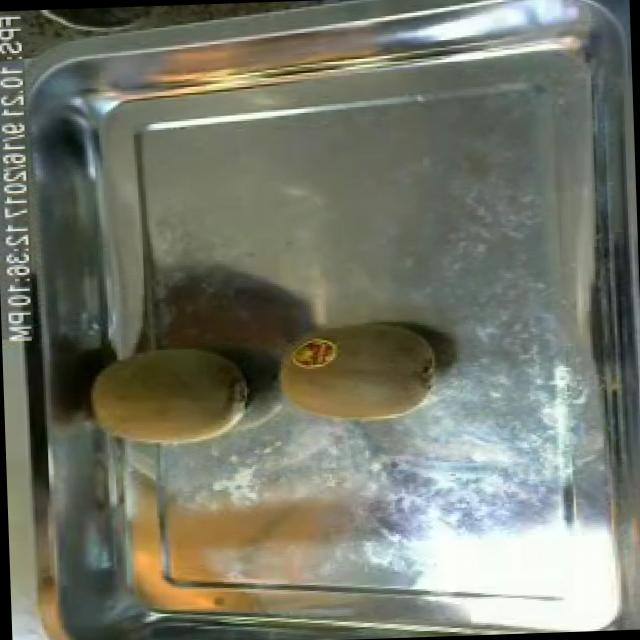Fruit: (78, 334, 260, 462), (266, 312, 446, 436)
